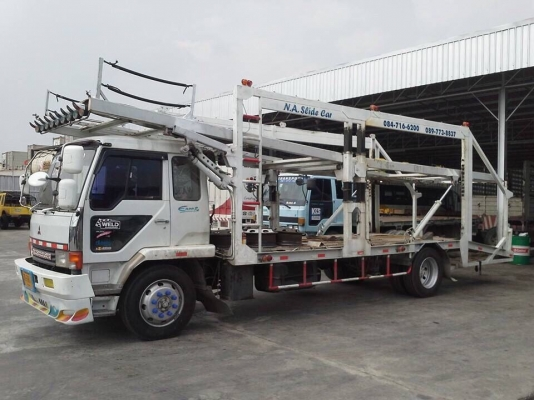truck: (11, 89, 515, 339)
